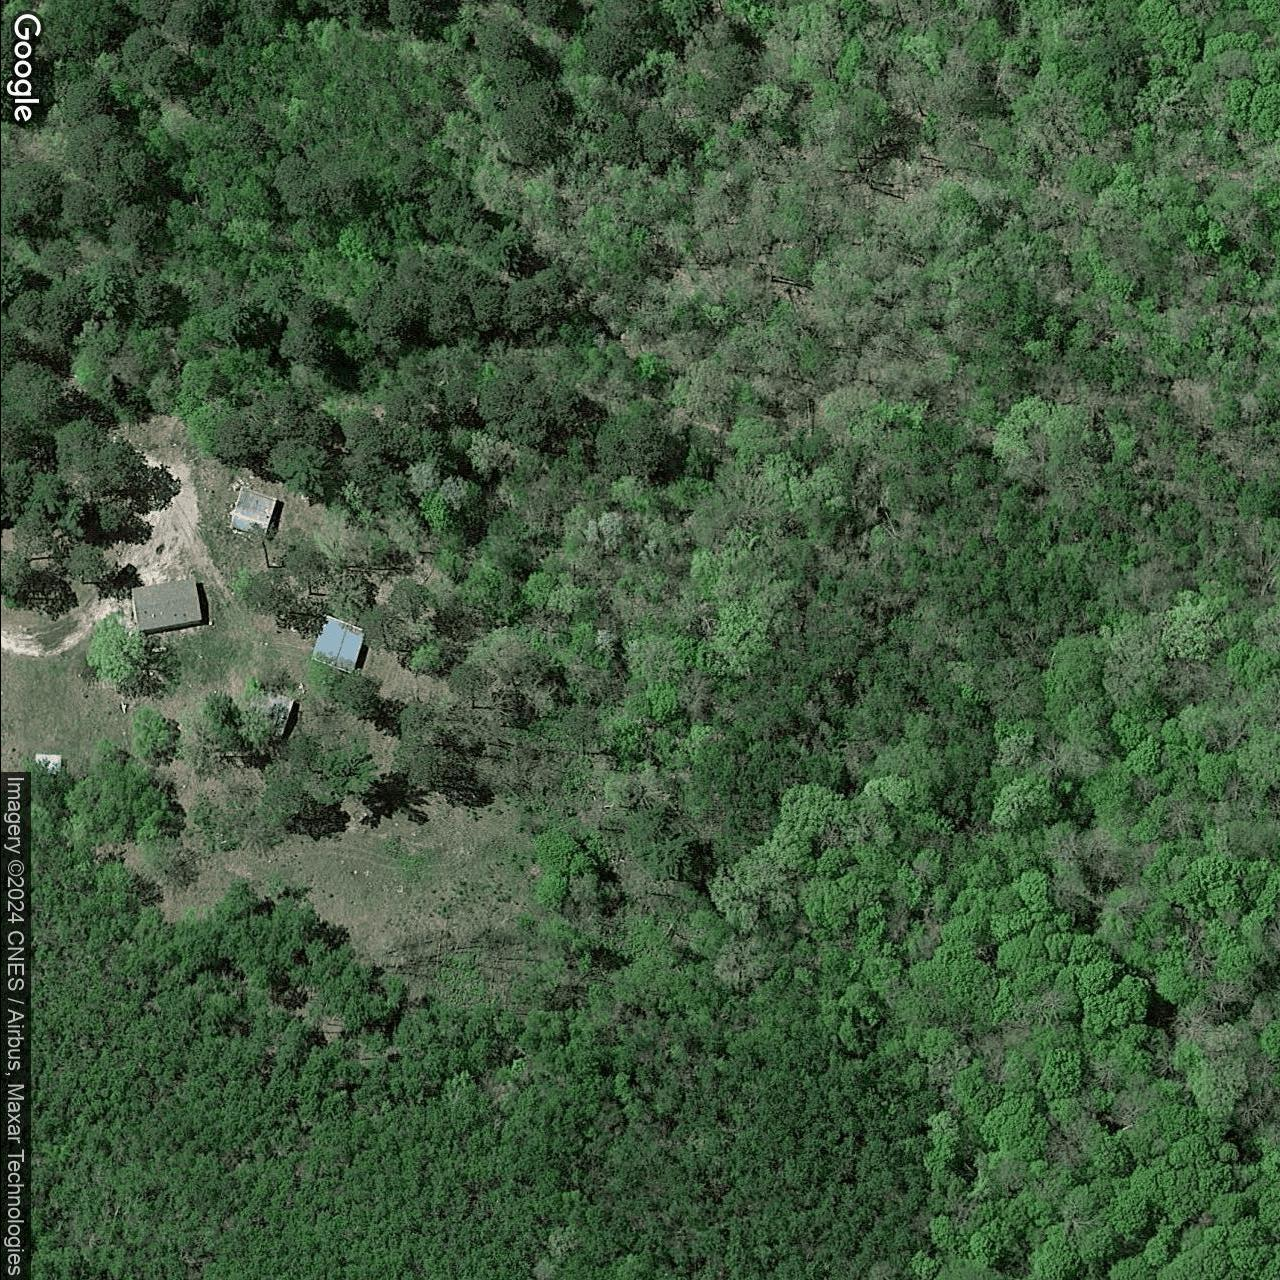Garage: (307, 613, 366, 675), (239, 683, 293, 741), (227, 484, 279, 539)
House: (129, 576, 203, 633)
